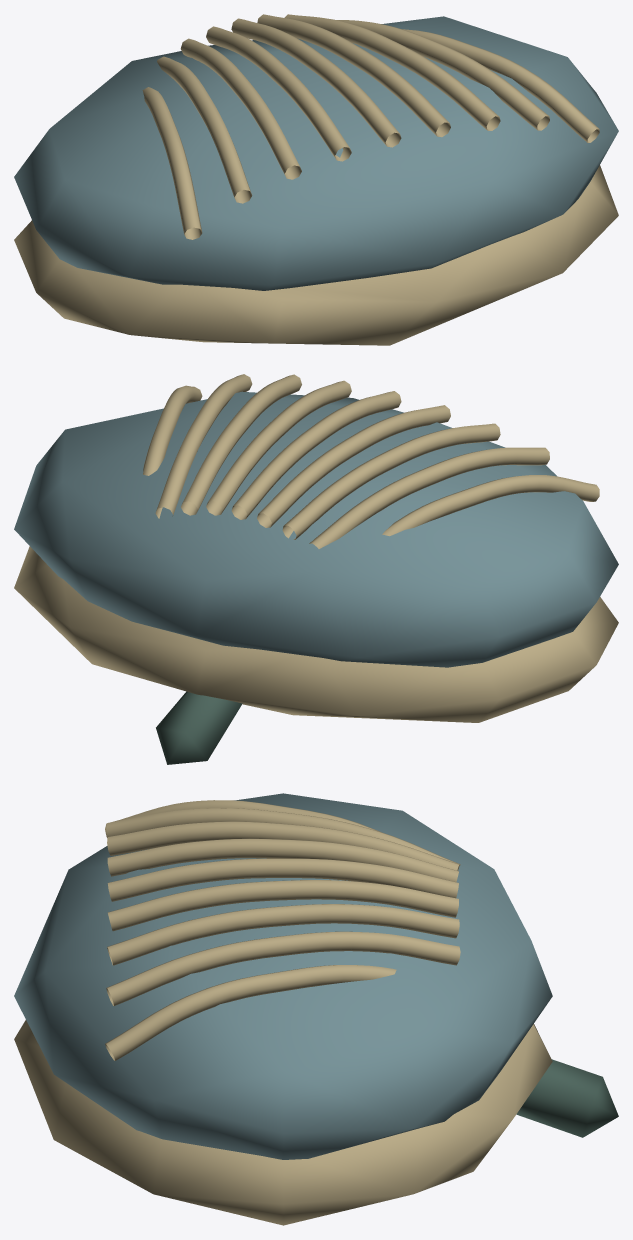
Rendered from org_platystrophia.glb.
The picture shows the model from 3 angles, top to bottom: view 1: azimuth 30°, elevation 25°; view 2: azimuth 150°, elevation 25°; view 3: azimuth 270°, elevation 25°; orthographic projection. The views are drawn at different scales.
Visible parts, largest first — view 1: Body; view 2: Body; view 3: Body.
Part boxes in pixels (x1,y1,x2,y2): Body: [14, 14, 618, 345]; Body: [14, 374, 618, 764]; Body: [14, 793, 618, 1225].
Size of the model in its own units: 0.7766 by 0.32 by 0.6457.
